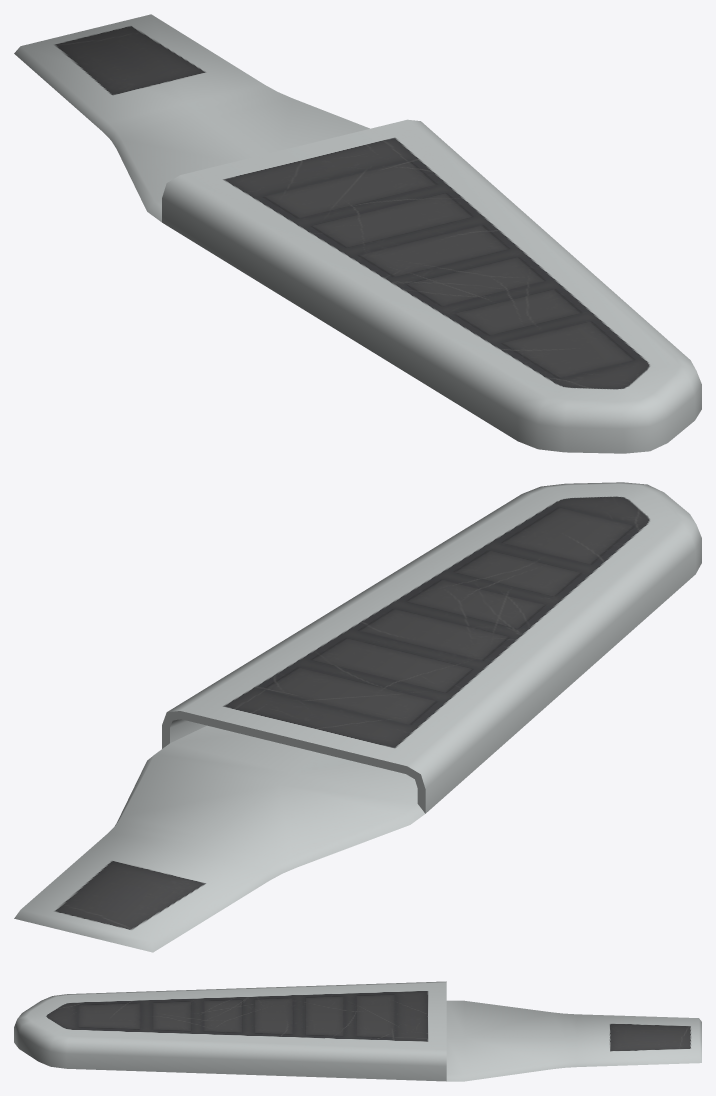
The model's file is MeleePulseBlade01_2.FBX.
The picture shows the model from 3 angles, top to bottom: view 1: azimuth 30°, elevation 25°; view 2: azimuth 150°, elevation 25°; view 3: azimuth 270°, elevation 25°; orthographic projection. The views are drawn at different scales.
Visible parts, largest first — view 1: MeleePulseBlade01_2; view 2: MeleePulseBlade01_2; view 3: MeleePulseBlade01_2.
Part boxes in pixels (<box>): MeleePulseBlade01_2: <box>14,14,701,453</box>; MeleePulseBlade01_2: <box>14,482,701,952</box>; MeleePulseBlade01_2: <box>14,981,701,1081</box>.
Size of what is drawn, in the model's own units: 0.071 by 0.0111 by 0.2645.
